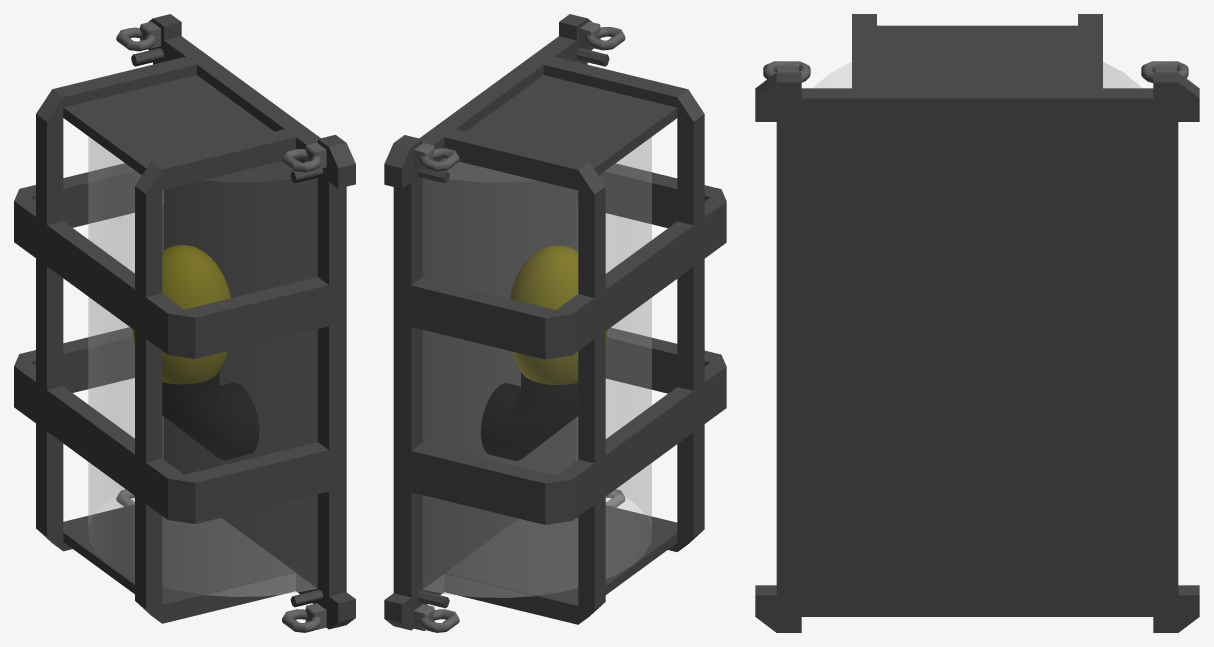
Rendered from FactoryLamp.fbx.
3 renders of one model, left to right at view 1: azimuth 30°, elevation 25°; view 2: azimuth 150°, elevation 25°; view 3: azimuth 270°, elevation 25°, orthographic. The views are drawn at different scales.
Parts seen in each view (by area): view 1: Куб.006, Цилиндр.005, Цилиндр.004, Сфера.002, Куб.005; view 2: Куб.006, Цилиндр.005, Цилиндр.004, Сфера.002, Куб.005; view 3: Куб.006, Куб.005, Цилиндр.005.
Part boxes in pixels (x1,y1,x2,y2): Куб.006: (14, 14, 355, 629); Цилиндр.005: (88, 137, 317, 596); Цилиндр.004: (162, 372, 259, 460); Сфера.002: (132, 245, 230, 384); Куб.005: (116, 21, 326, 632); Куб.006: (384, 14, 726, 630); Цилиндр.005: (423, 137, 651, 597); Цилиндр.004: (481, 372, 578, 460); Сфера.002: (509, 245, 607, 384); Куб.005: (413, 21, 625, 632); Куб.006: (755, 14, 1199, 632); Куб.005: (763, 61, 1188, 82); Цилиндр.005: (814, 62, 1140, 87).
Bounding box in the file's own units: 36.74 × 101 × 73.91.
